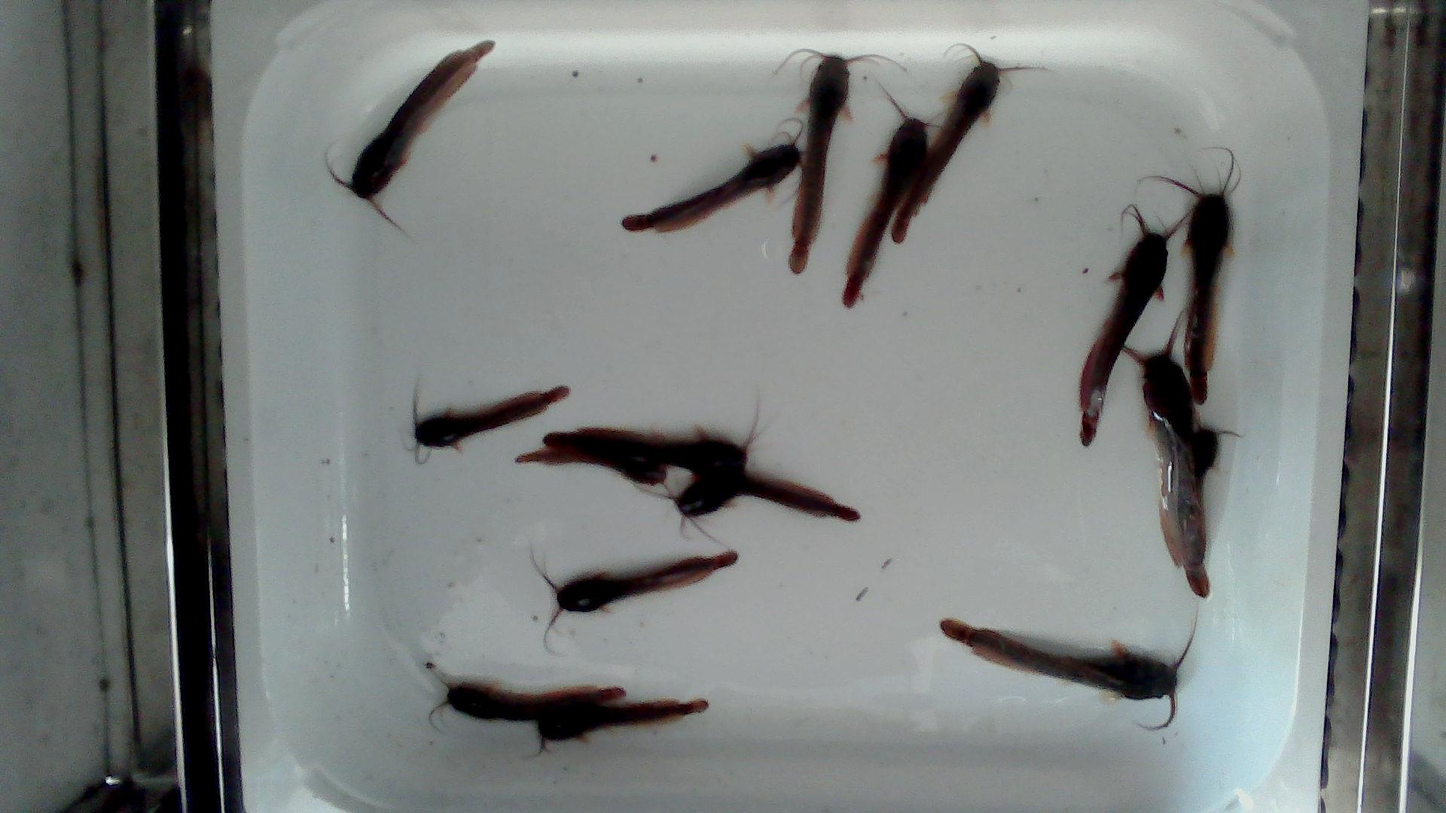lele: (891, 38, 1047, 240), (341, 41, 494, 224), (940, 620, 1197, 726), (1080, 203, 1186, 446), (1152, 141, 1241, 406), (789, 48, 887, 273), (529, 551, 735, 644), (842, 90, 926, 308), (1140, 347, 1207, 595), (621, 141, 801, 232), (547, 406, 768, 468), (647, 471, 855, 533), (414, 385, 569, 447), (440, 681, 618, 720), (517, 445, 668, 485), (536, 701, 712, 734)
